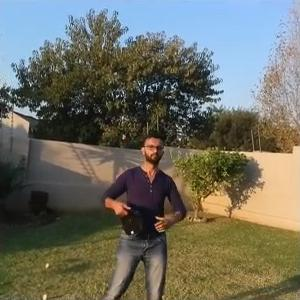follow: (91, 124, 189, 298)
